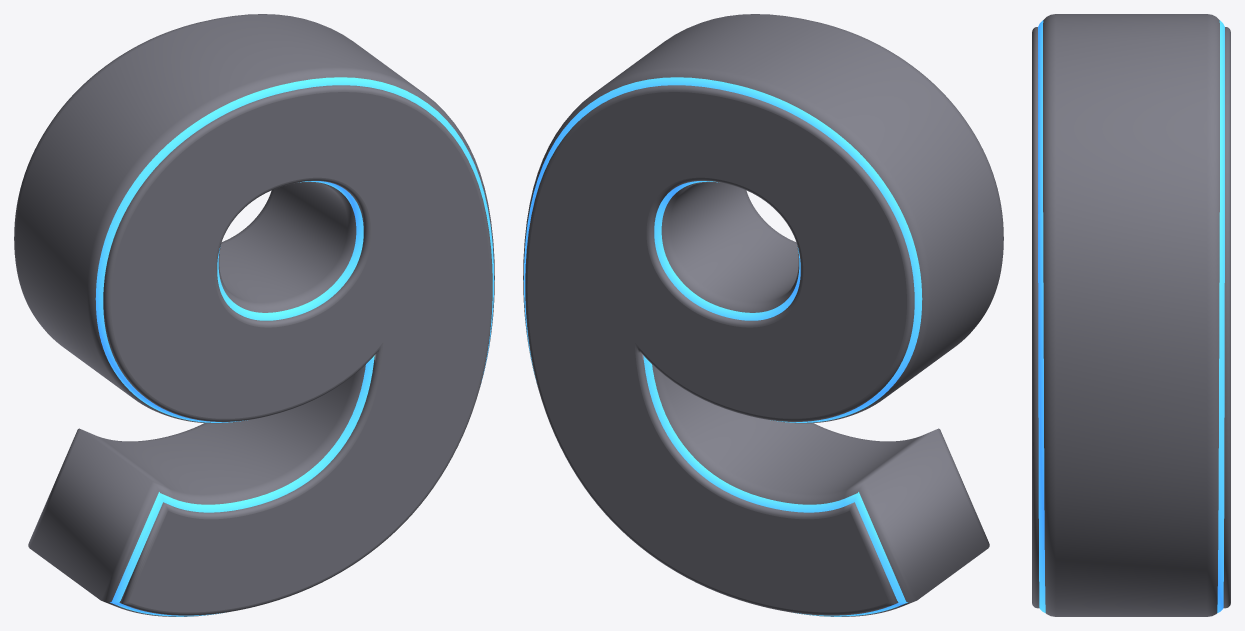
File: nine.glb
The picture shows the model from 3 angles, left to right: view 1: azimuth 30°, elevation 25°; view 2: azimuth 150°, elevation 25°; view 3: azimuth 270°, elevation 25°; orthographic projection. The views are drawn at different scales.
Parts seen in each view (by area): view 1: N_9_smaller_2, N_9_side_1, N_9_border_0; view 2: N_9_smaller_2, N_9_side_1, N_9_border_0; view 3: N_9_side_1, N_9_smaller_2, N_9_border_0.
Boxes of the visible parts, <box> form: N_9_smaller_2: <box>103,85,492,615</box>; N_9_side_1: <box>14,14,494,616</box>; N_9_border_0: <box>95,77,494,616</box>; N_9_smaller_2: <box>525,85,914,615</box>; N_9_side_1: <box>523,14,1003,616</box>; N_9_border_0: <box>523,77,922,616</box>; N_9_side_1: <box>1043,14,1219,616</box>; N_9_smaller_2: <box>1032,27,1230,608</box>; N_9_border_0: <box>1038,20,1224,612</box>.
Bounding box in the file's own units: 0.4607 × 0.5695 × 0.184.
